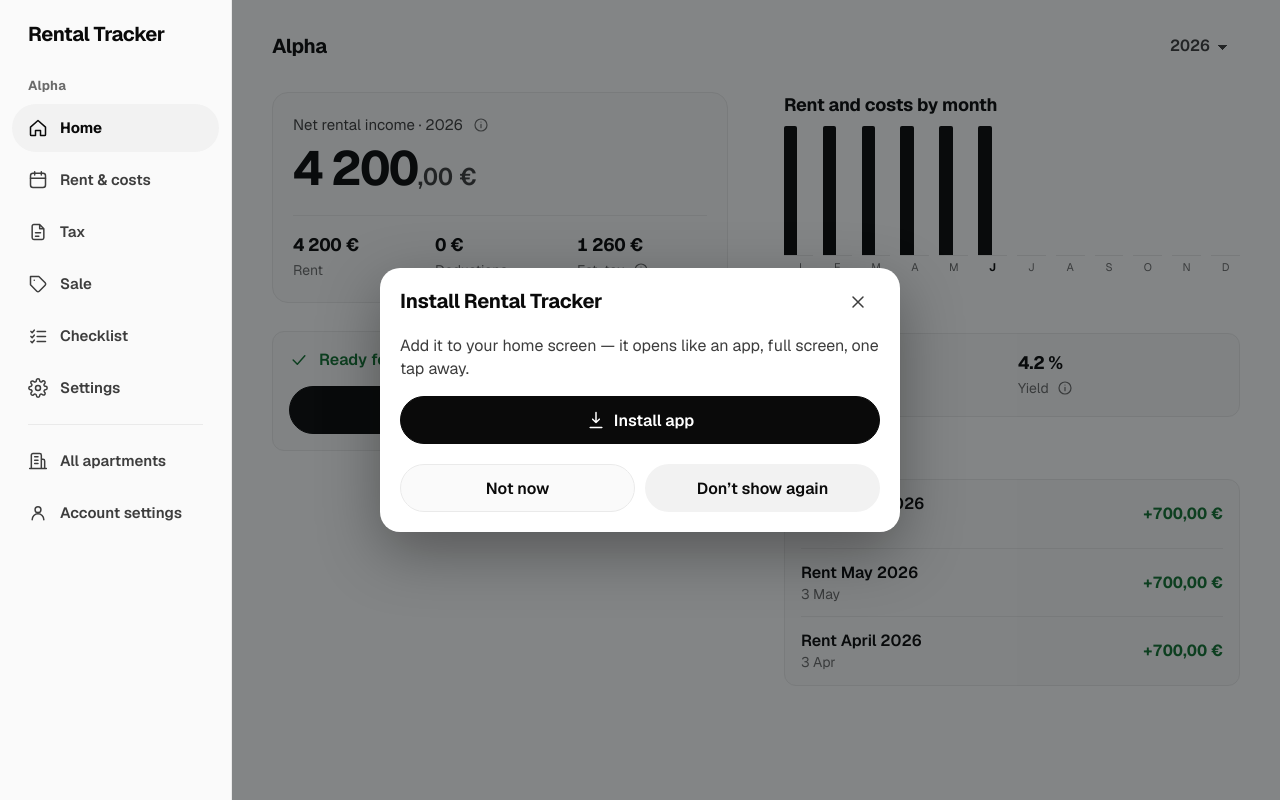
Test: moving between apartments › adds up your share of every apartment in the portfolio, with the account one tap away
Click the button "All apartments": [116, 461] box [12,437,219,485]
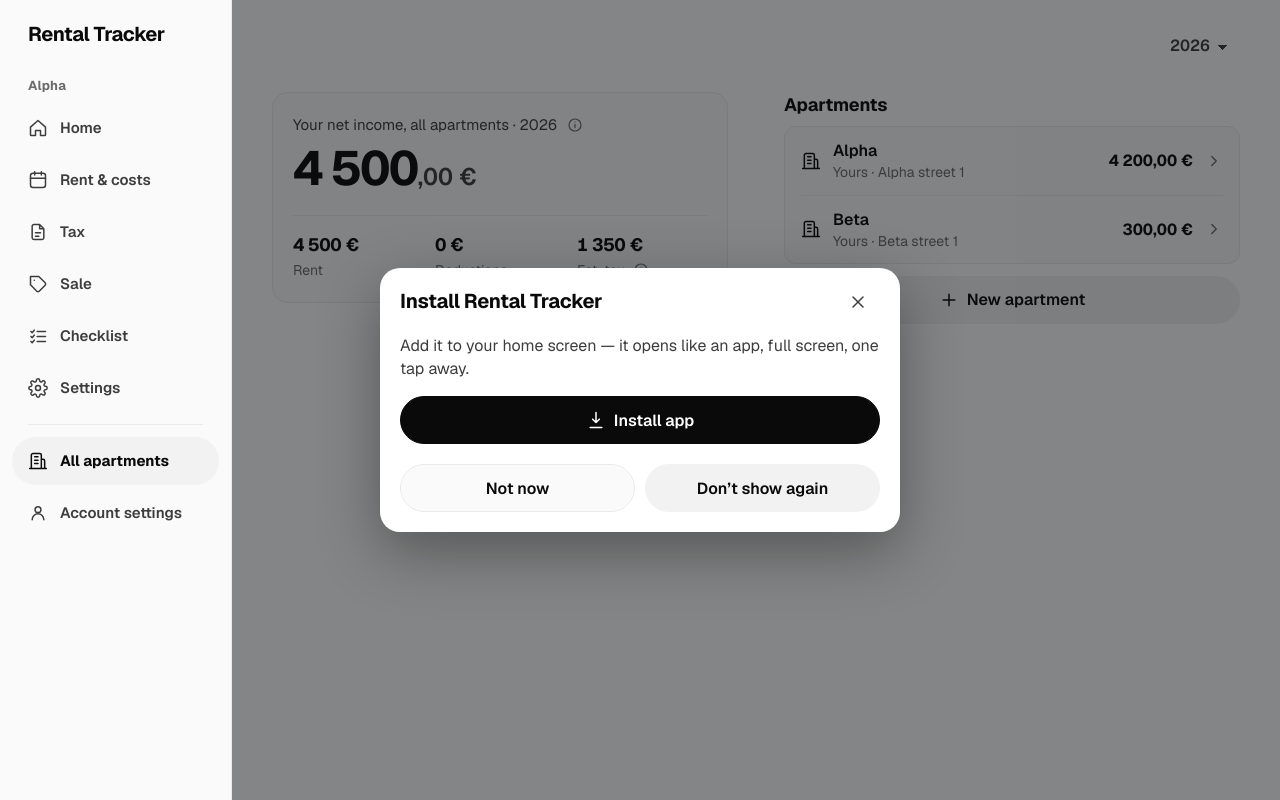
Now the element with test id "net-income" reads "4 500,00 €", box [293,137,477,199]
Click the button "Account settings": [116, 513] box [12,489,219,537]
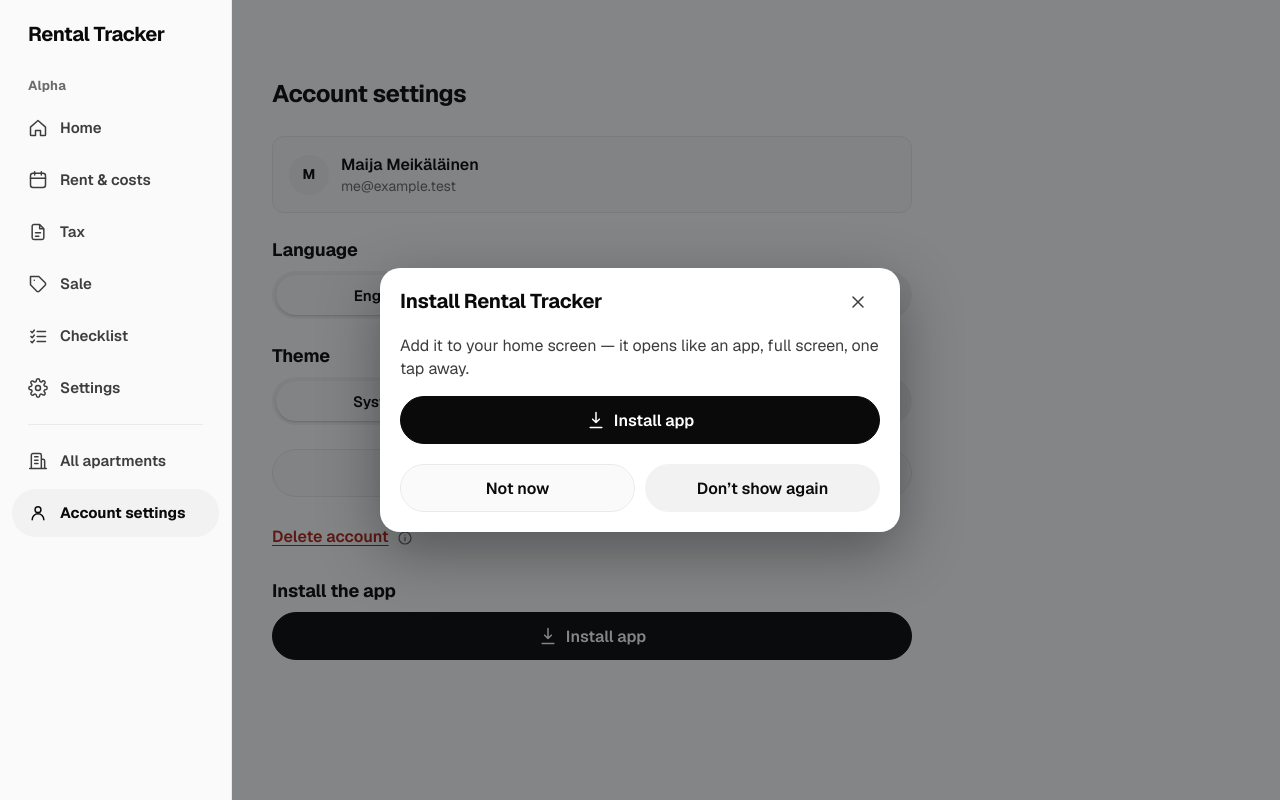
Now the heading "Account settings" is shown, box [272,77,466,112]
Now the element named "Account" is shown, box [272,136,912,660]
